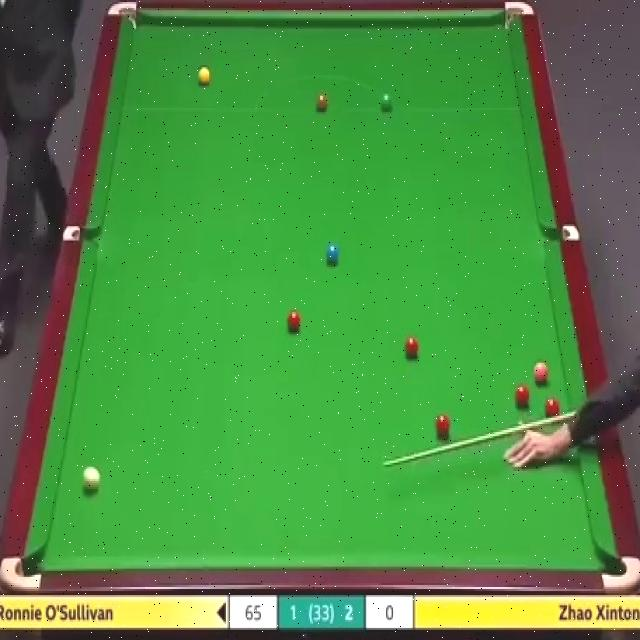blue-ball: (326, 243, 339, 266)
brown-ball: (316, 94, 328, 112)
green-ball: (381, 92, 392, 112)
pink-ball: (533, 360, 550, 386)
red-ball: (433, 413, 451, 438), (405, 333, 420, 359), (515, 385, 530, 407), (288, 307, 301, 331), (546, 399, 560, 421)
white-ball: (82, 467, 100, 495)
yellow-ball: (197, 67, 212, 88)
